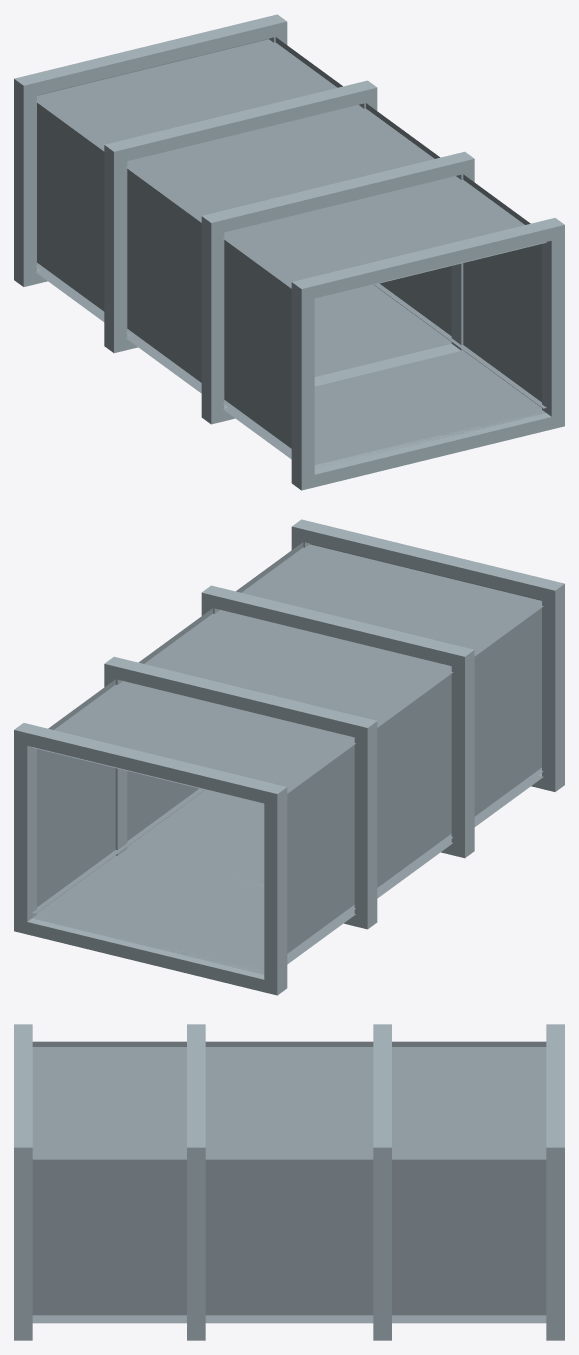
File: 01_duct_rect_straight.glb
The picture shows the model from 3 angles, top to bottom: view 1: azimuth 30°, elevation 25°; view 2: azimuth 150°, elevation 25°; view 3: azimuth 270°, elevation 25°; orthographic projection. The views are drawn at different scales.
Parts seen in each view (by area): view 1: 01_duct_rect_straight; view 2: 01_duct_rect_straight; view 3: 01_duct_rect_straight.
Part boxes in pixels (x1=…): 01_duct_rect_straight: x1=14, y1=14, x2=564, y2=490; 01_duct_rect_straight: x1=14, y1=519, x2=564, y2=995; 01_duct_rect_straight: x1=14, y1=1024, x2=564, y2=1340.
Size of the model in its own units: 1.1 by 0.8 by 2.07.
